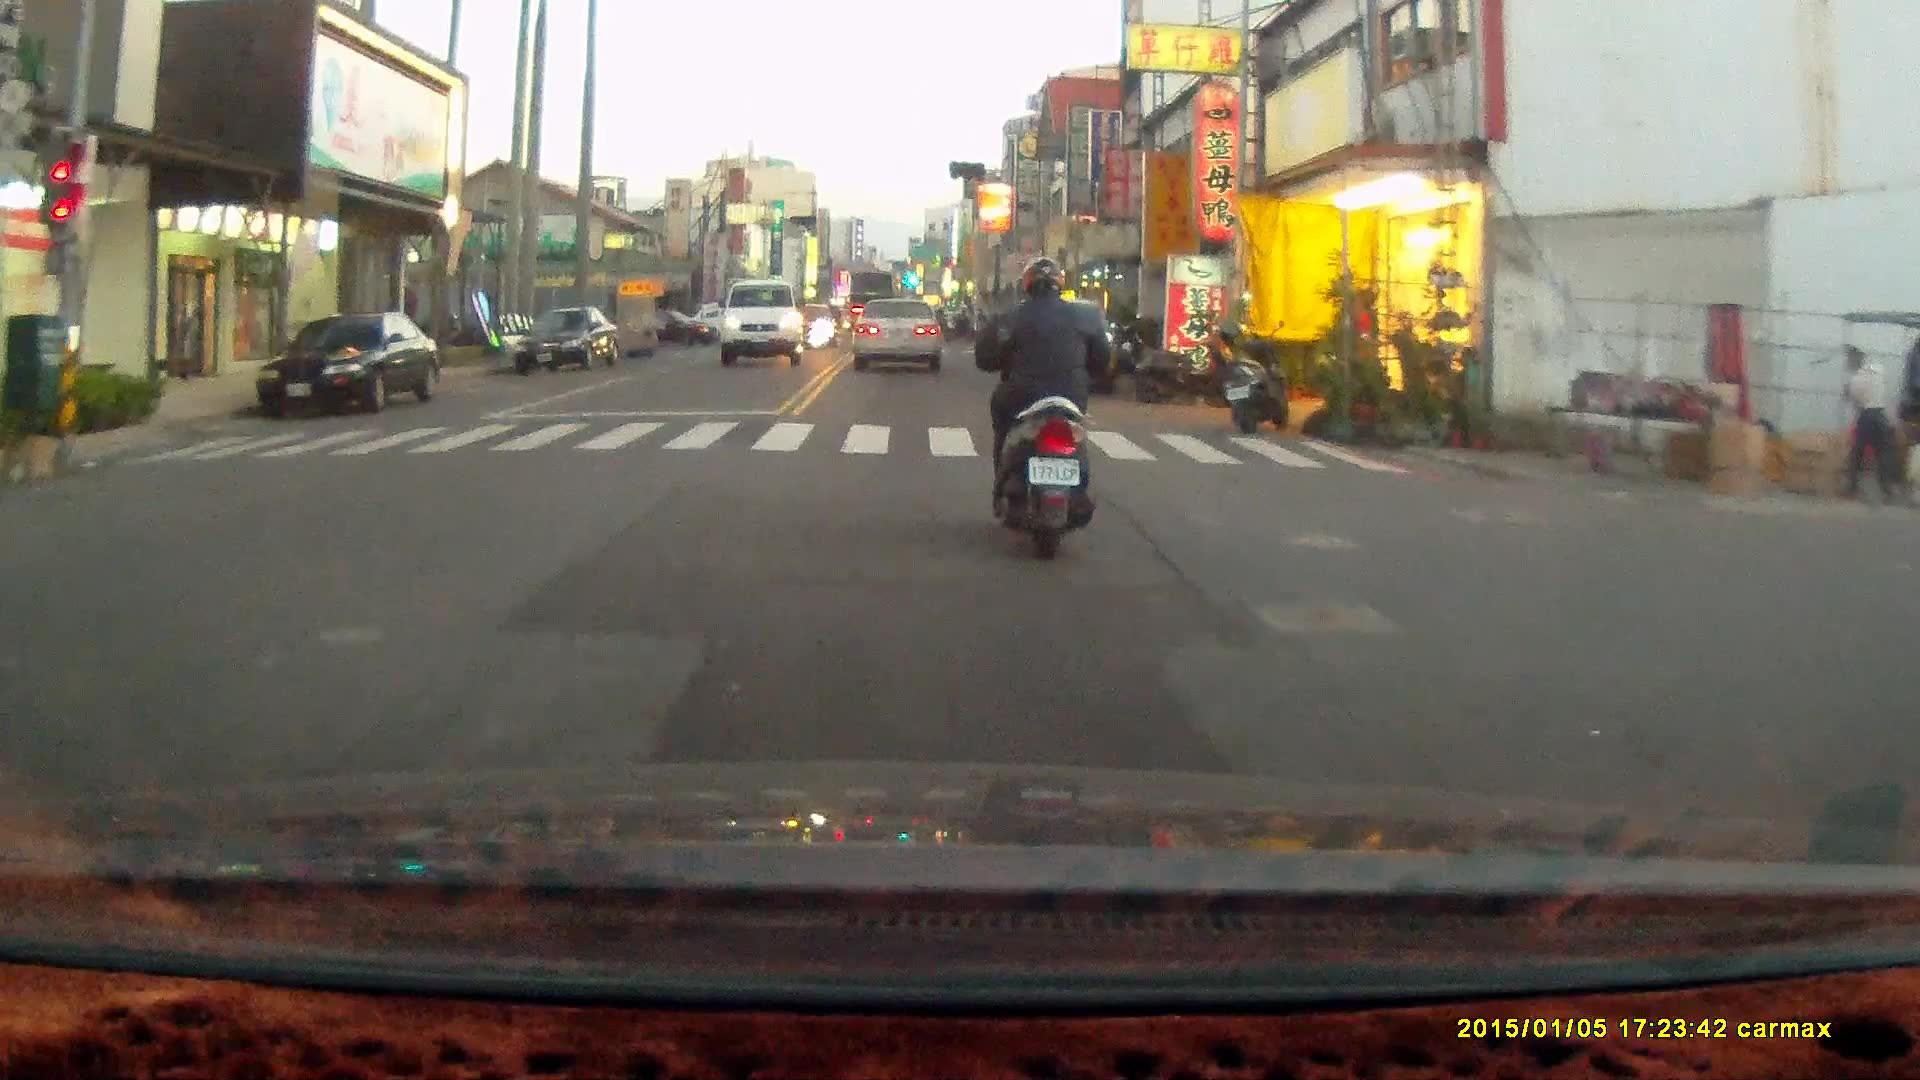pedestrian: (1834, 341, 1894, 501)
rider: (968, 251, 1104, 554)
vehicle: (252, 314, 439, 416), (512, 302, 621, 376), (719, 278, 806, 368), (856, 299, 955, 368)
